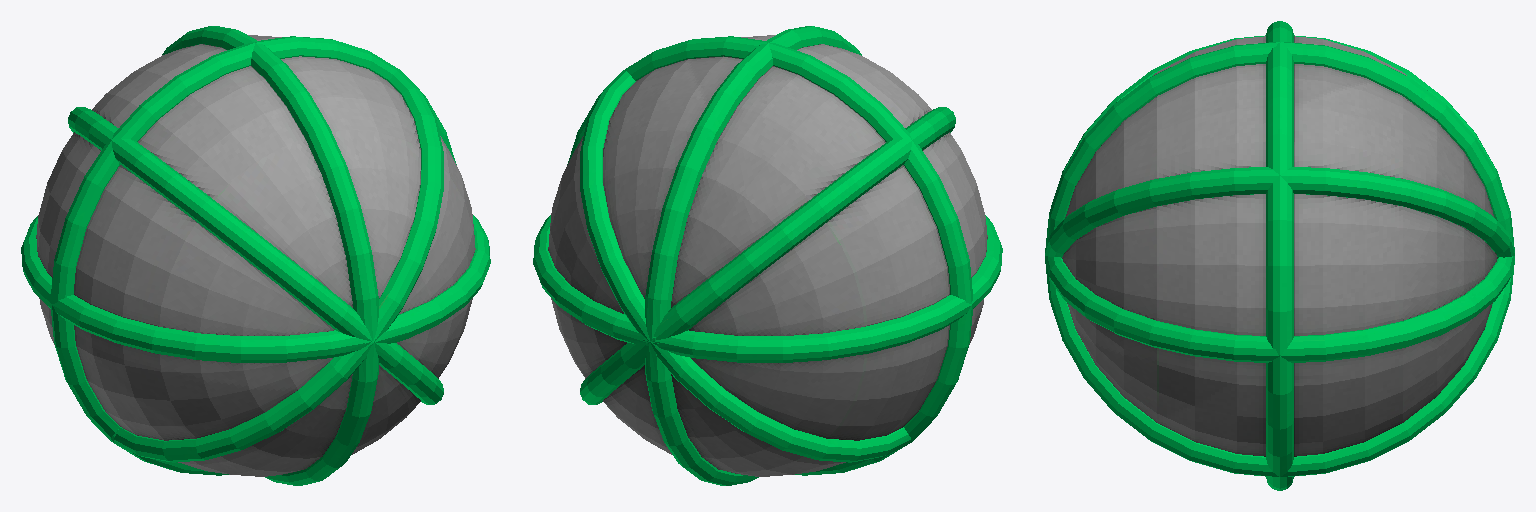
3 renders of one model, left to right at view 1: azimuth 30°, elevation 25°; view 2: azimuth 150°, elevation 25°; view 3: azimuth 270°, elevation 25°, orthographic.
Parts seen in each view (by area): view 1: AQ; view 2: AQ; view 3: AQ.
Part boxes in pixels (bbox=[...]): AQ: bbox=[21, 26, 490, 485]; AQ: bbox=[533, 26, 1002, 485]; AQ: bbox=[1045, 21, 1514, 490].
Size of the model in its own units: 1.68 by 1.68 by 1.68.
1 materials, 1 textured.